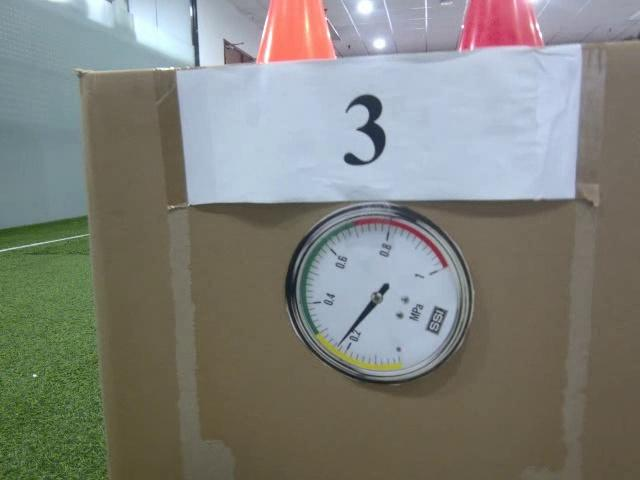3: (336, 92, 390, 168)
Dashboard: (279, 202, 475, 386)
orange_barrel: (253, 0, 339, 62)
red_barrel: (455, 0, 546, 52)
ssi: (425, 306, 447, 336)
